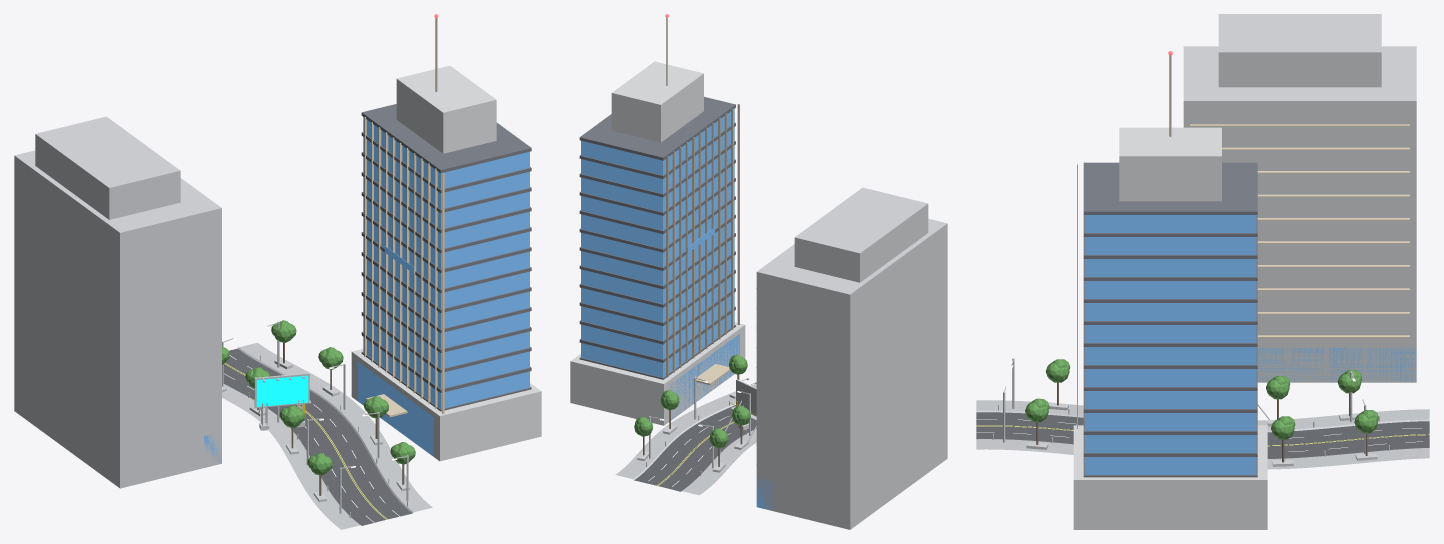
The model's file is vertical_slice.glb.
3 renders of one model, left to right at view 1: azimuth 30°, elevation 25°; view 2: azimuth 150°, elevation 25°; view 3: azimuth 270°, elevation 25°, orthographic. The views are drawn at different scales.
Visible parts, largest first — view 1: Building_AI_Systems_Institute, Building_Innovation_Tower, Innovation_Roadway_Deck, Roadside_Landscaping, Display_Innovation_Boulevard_OLED, Streetscape_Props, Innovation_Billboard_Structure; view 2: Building_AI_Systems_Institute, Building_Innovation_Tower, Innovation_Roadway_Deck, Roadside_Landscaping, Innovation_Billboard_Structure, Streetscape_Props; view 3: Building_Innovation_Tower, Building_AI_Systems_Institute, Innovation_Roadway_Deck, Roadside_Landscaping, Streetscape_Props, Road_Markings_Detailed.
Boxes of the visible parts, bbox=[...] form: Building_AI_Systems_Institute: bbox=[14, 116, 221, 488]; Building_Innovation_Tower: bbox=[351, 14, 541, 461]; Innovation_Roadway_Deck: bbox=[222, 342, 432, 529]; Roadside_Landscaping: bbox=[222, 320, 415, 502]; Display_Innovation_Boulevard_OLED: bbox=[256, 375, 308, 406]; Streetscape_Props: bbox=[222, 321, 408, 517]; Innovation_Billboard_Structure: bbox=[251, 373, 311, 430]; Building_AI_Systems_Institute: bbox=[756, 187, 947, 529]; Building_Innovation_Tower: bbox=[570, 14, 745, 425]; Innovation_Roadway_Deck: bbox=[615, 384, 756, 495]; Roadside_Landscaping: bbox=[634, 354, 750, 472]; Innovation_Billboard_Structure: bbox=[725, 378, 756, 442]; Streetscape_Props: bbox=[646, 377, 750, 475]; Building_Innovation_Tower: bbox=[1073, 51, 1267, 529]; Building_AI_Systems_Institute: bbox=[1183, 14, 1416, 382]; Innovation_Roadway_Deck: bbox=[976, 400, 1429, 469]; Roadside_Landscaping: bbox=[1025, 359, 1378, 466]; Streetscape_Props: bbox=[992, 358, 1389, 456]; Road_Markings_Detailed: bbox=[976, 419, 1429, 451].
Size of the model in its own units: 73 by 76.52 by 70.
